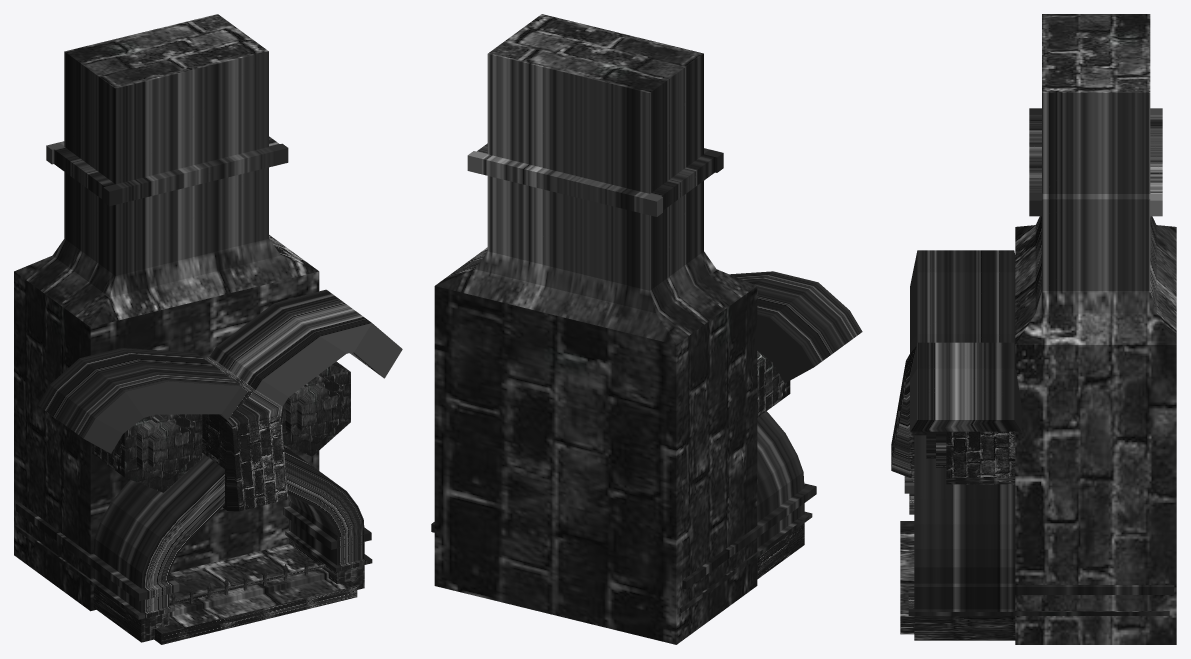
File: FornalhaBoss.fbx
The picture shows the model from 3 angles, left to right: view 1: azimuth 30°, elevation 25°; view 2: azimuth 150°, elevation 25°; view 3: azimuth 270°, elevation 25°; orthographic projection. The views are drawn at different scales.
Visible parts, largest first — view 1: GrandeFornalha; view 2: GrandeFornalha; view 3: GrandeFornalha.
Boxes of the visible parts, x1,y1,x2,y2 form: GrandeFornalha: (14,14,402,644); GrandeFornalha: (431,14,862,644); GrandeFornalha: (891,14,1176,644).
Size of the model in its own units: 1151 by 1735 by 844.
